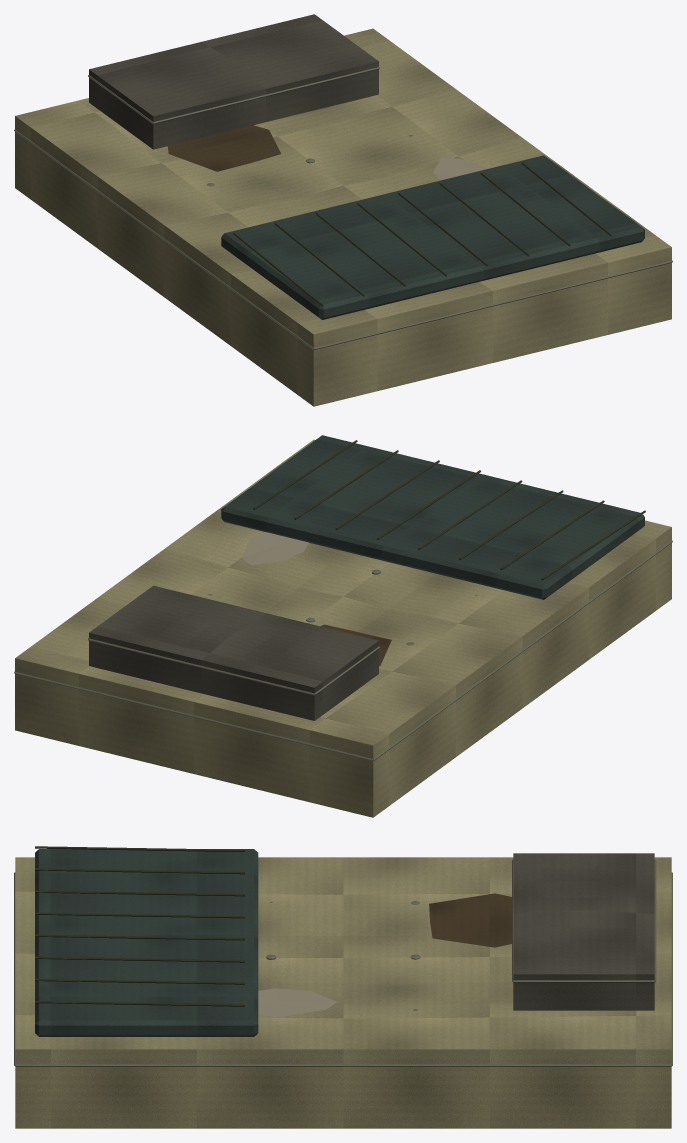
File: mattress_dirty.glb
The picture shows the model from 3 angles, top to bottom: view 1: azimuth 30°, elevation 25°; view 2: azimuth 150°, elevation 25°; view 3: azimuth 270°, elevation 25°; orthographic projection. The views are drawn at different scales.
Parts seen in each view (by area): view 1: PROP_mattress_dirty; view 2: PROP_mattress_dirty; view 3: PROP_mattress_dirty.
Boxes of the visible parts, <box> form: PROP_mattress_dirty: <box>14,14,672,406</box>; PROP_mattress_dirty: <box>14,435,672,817</box>; PROP_mattress_dirty: <box>14,846,672,1128</box>.
Size of the model in its own units: 1.36 by 0.4074 by 1.96.
7 materials, 5 textured.
